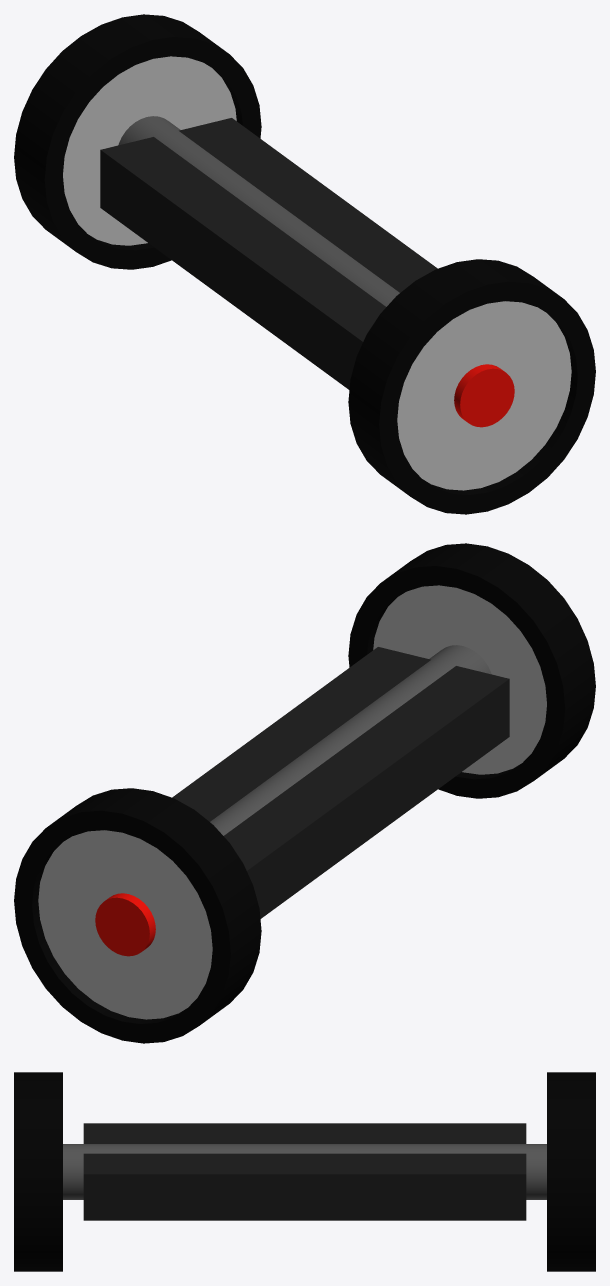
File: Howard.fbx
3 renders of one model, top to bottom at view 1: azimuth 30°, elevation 25°; view 2: azimuth 150°, elevation 25°; view 3: azimuth 270°, elevation 25°, orthographic. The views are drawn at different scales.
Parts seen in each view (by area): view 1: Cylinder, Cube, Cylinder.001; view 2: Cylinder, Cube, Cylinder.001; view 3: Cube, Cylinder, Cylinder.001.
Part boxes in pixels (x1,y1,x2,y2): Cylinder: (14,14,595,514); Cube: (100,118,437,389); Cylinder.001: (118,116,399,306); Cylinder: (14,543,595,1043); Cube: (172,647,509,918); Cylinder.001: (210,645,491,835); Cube: (83,1123,526,1220); Cylinder: (14,1072,595,1271); Cylinder.001: (63,1144,546,1199).
Size of the model in its own units: 234 by 234 by 681.
